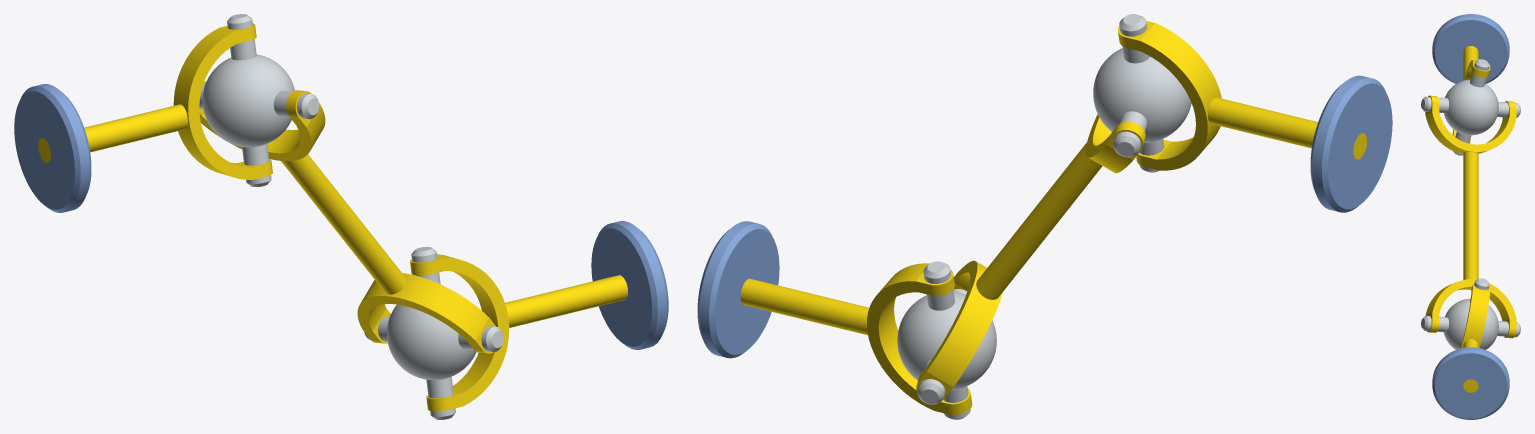
File: Hookejoint.gltf
3 renders of one model, left to right at view 1: azimuth 30°, elevation 25°; view 2: azimuth 150°, elevation 25°; view 3: azimuth 270°, elevation 25°, orthographic. The views are drawn at different scales.
Visible parts, largest first — view 1: yoke (×4), spidersphere (×2), disk (×2); view 2: yoke (×4), disk (×2), spidersphere (×2); view 3: disk (×2), yoke (×4), spidersphere (×2).
Boxes of the visible parts, box(x1,y1,x2,y2) form: yoke (×4): box(38, 23, 627, 411); spidersphere (×2): box(199, 14, 503, 419); disk (×2): box(14, 84, 668, 349); yoke (×4): box(740, 20, 1366, 414); disk (×2): box(697, 75, 1392, 358); spidersphere (×2): box(897, 14, 1191, 419); disk (×2): box(1432, 14, 1509, 419); yoke (×4): box(1425, 46, 1516, 392); spidersphere (×2): box(1421, 59, 1520, 349).
Bounding box in the file's own units: 0.644 × 0.4512 × 0.1575.
